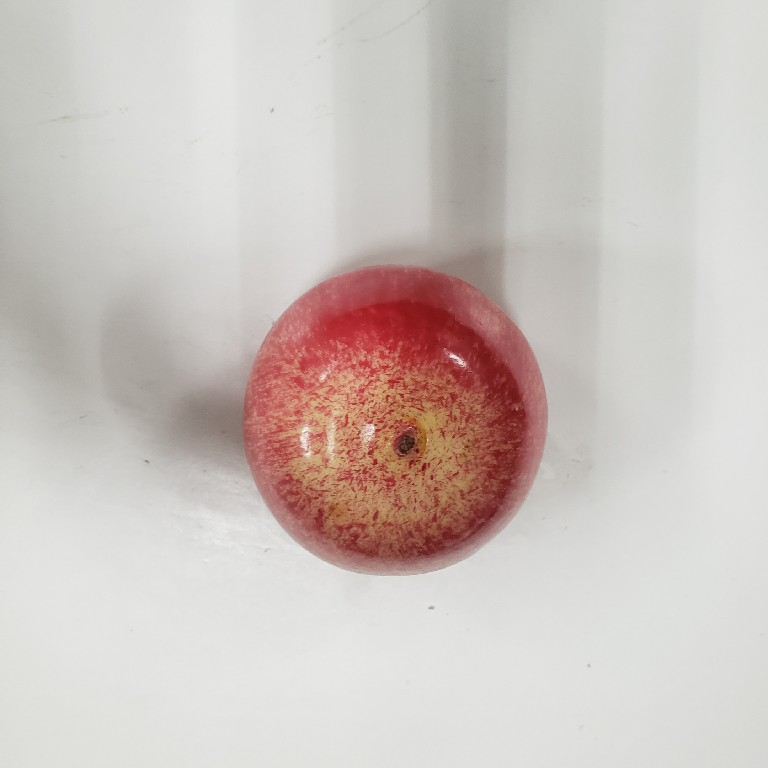fruit_apple: (229, 259, 566, 596)
